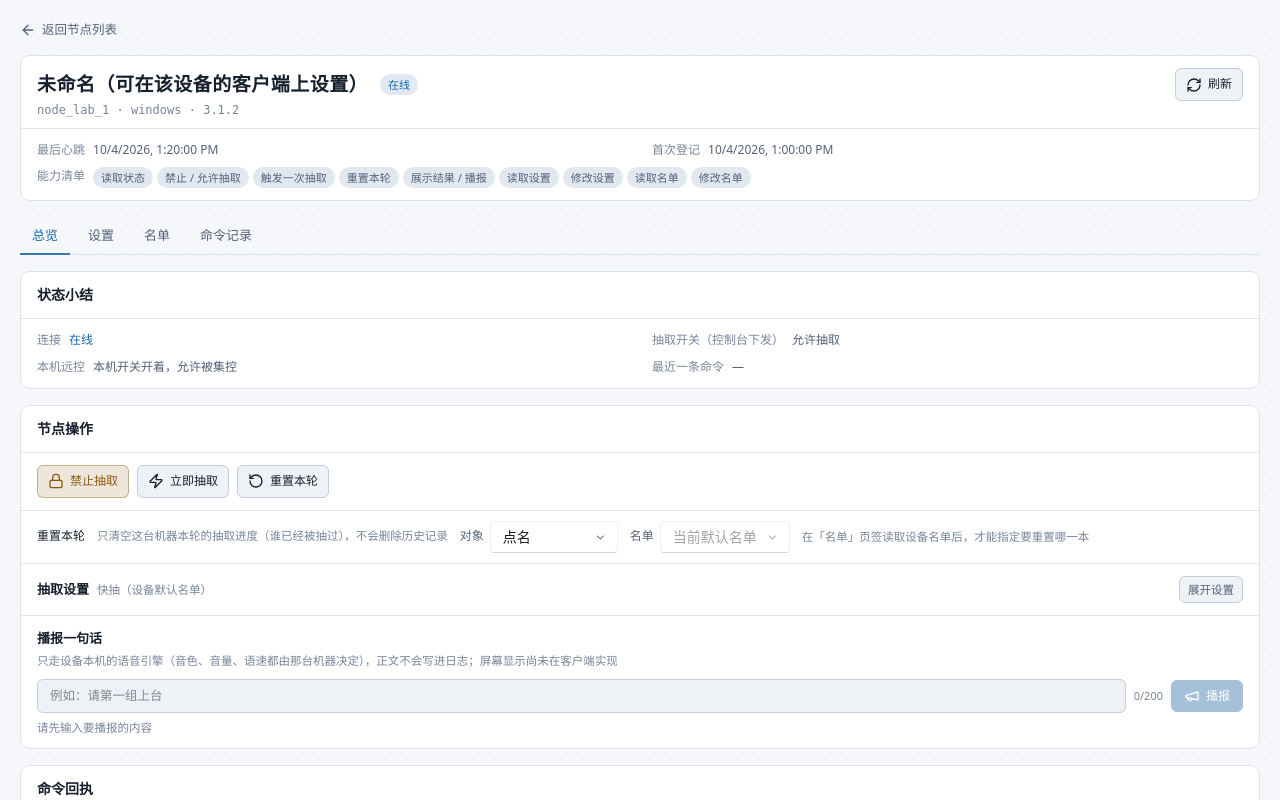
Test case: NodeDetailView 动作下发 › 服务端拒绝时把错误码渲染成文案
Click the button with test id "node-detail-trigger".
click(183, 481)  # box [137,465,229,498]
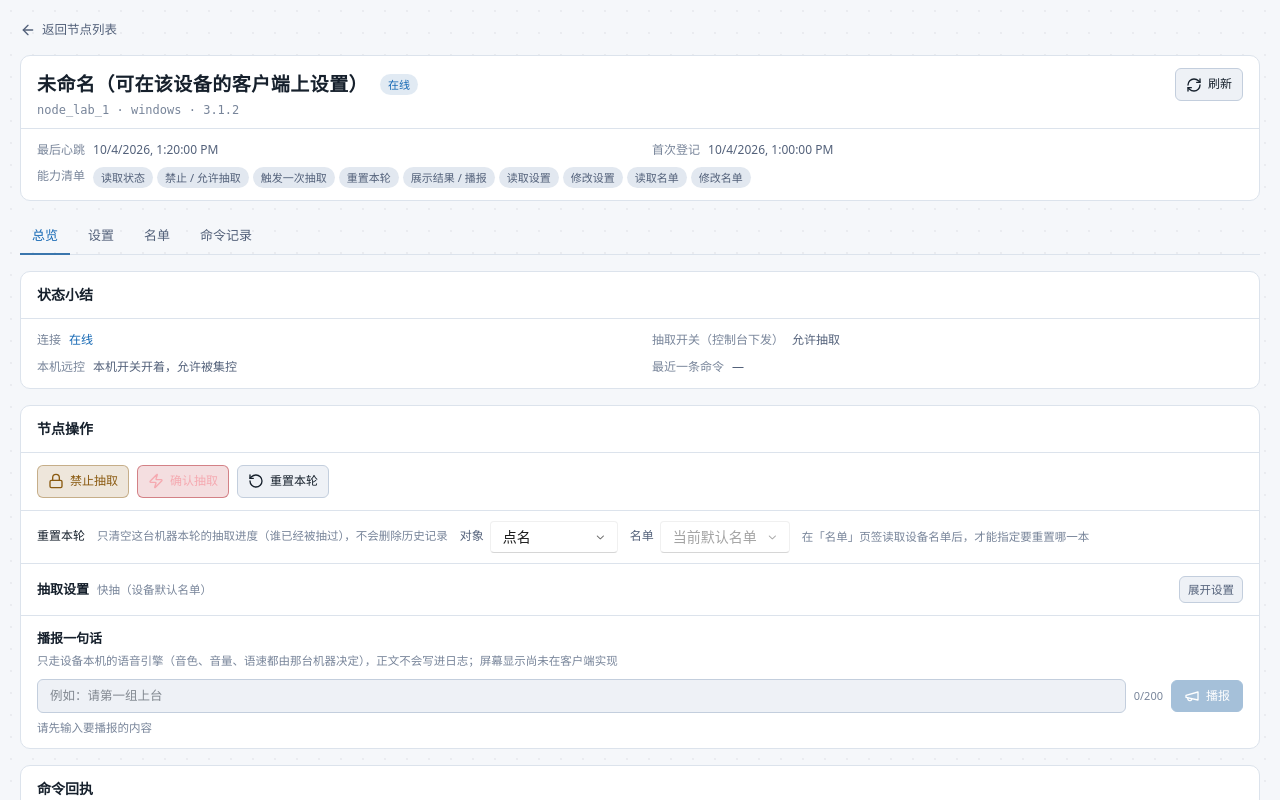
Click the button with test id "node-detail-trigger".
click(183, 481)  # box [137,465,229,498]
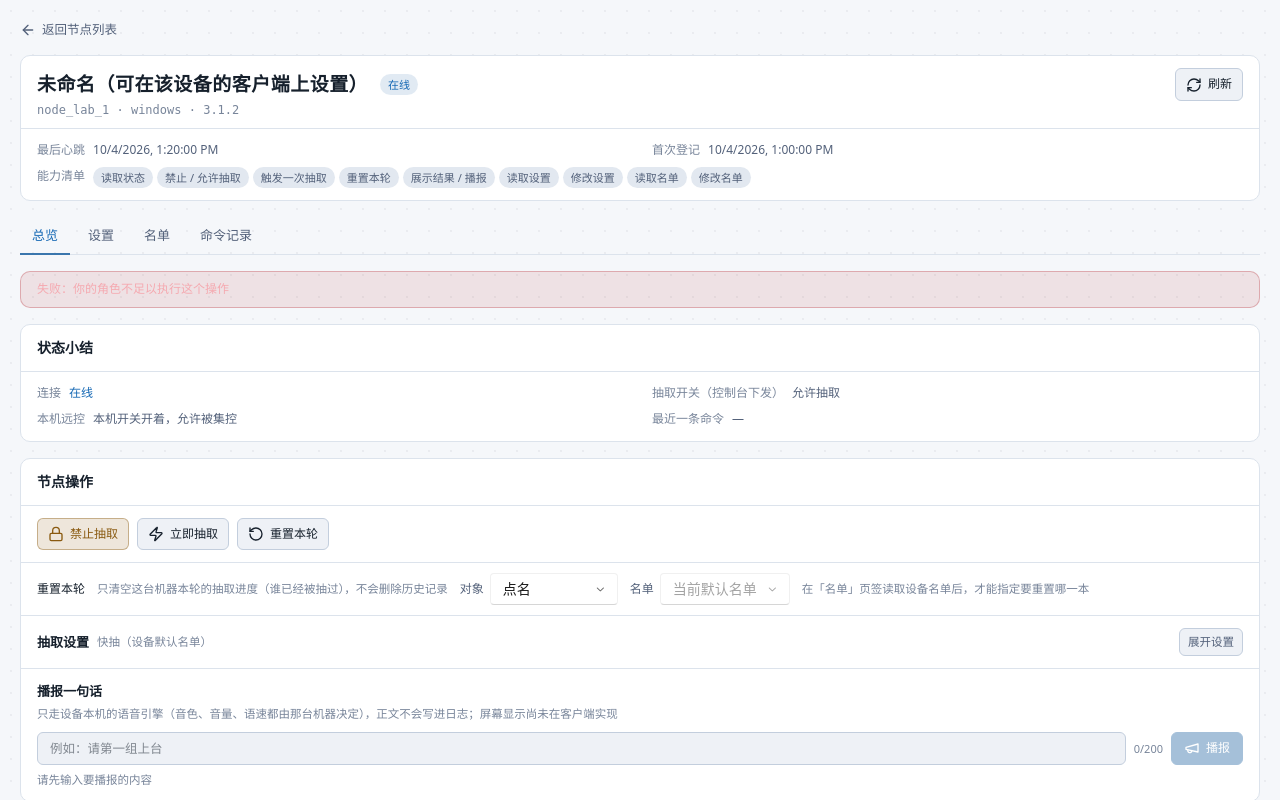
Expected: the text with test id "node-detail-feedback" shows "失败", [37,280,229,297]
Expected: the text with test id "node-detail-feedback" shows "你的角色不足以执行这个操作", [37,280,229,297]
